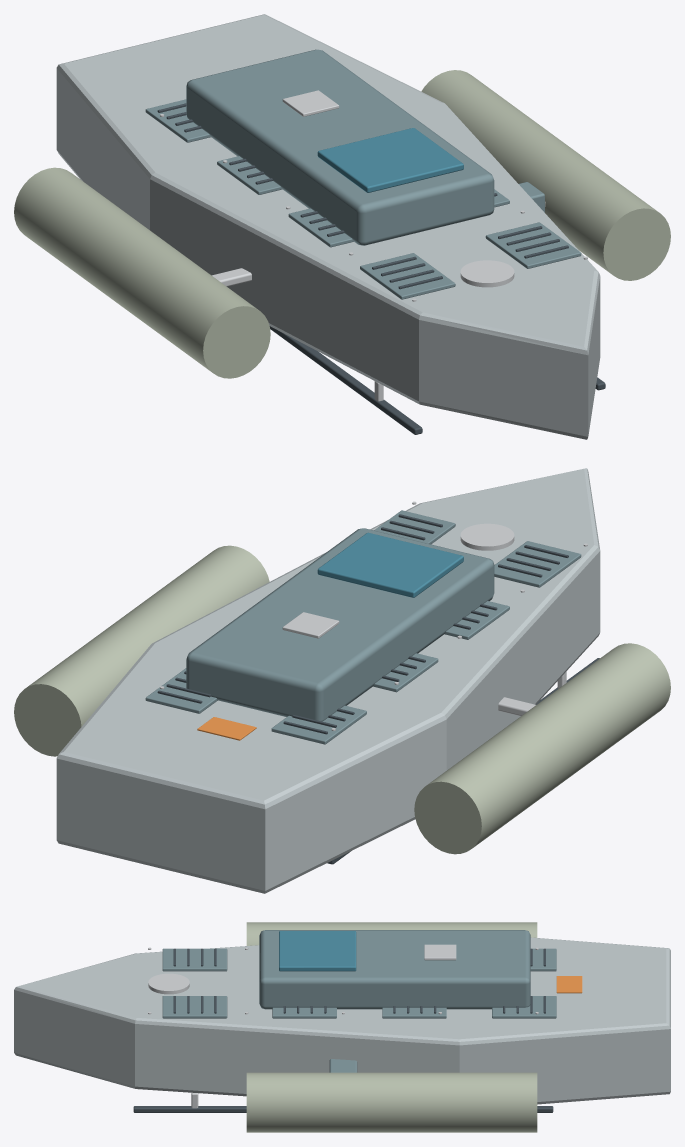
3 views of the same model, one above another, from view 1: azimuth 30°, elevation 25°; view 2: azimuth 150°, elevation 25°; view 3: azimuth 270°, elevation 25° (orthographic). The views are drawn at different scales.
Visible parts, largest first — view 1: science-vessel-core; view 2: science-vessel-core; view 3: science-vessel-core.
Part boxes in pixels (<box>): science-vessel-core: <box>14,14,670,439</box>; science-vessel-core: <box>14,468,670,893</box>; science-vessel-core: <box>14,922,670,1132</box>.
Bounding box in the file's own units: 9 × 3.09 × 14.24.
